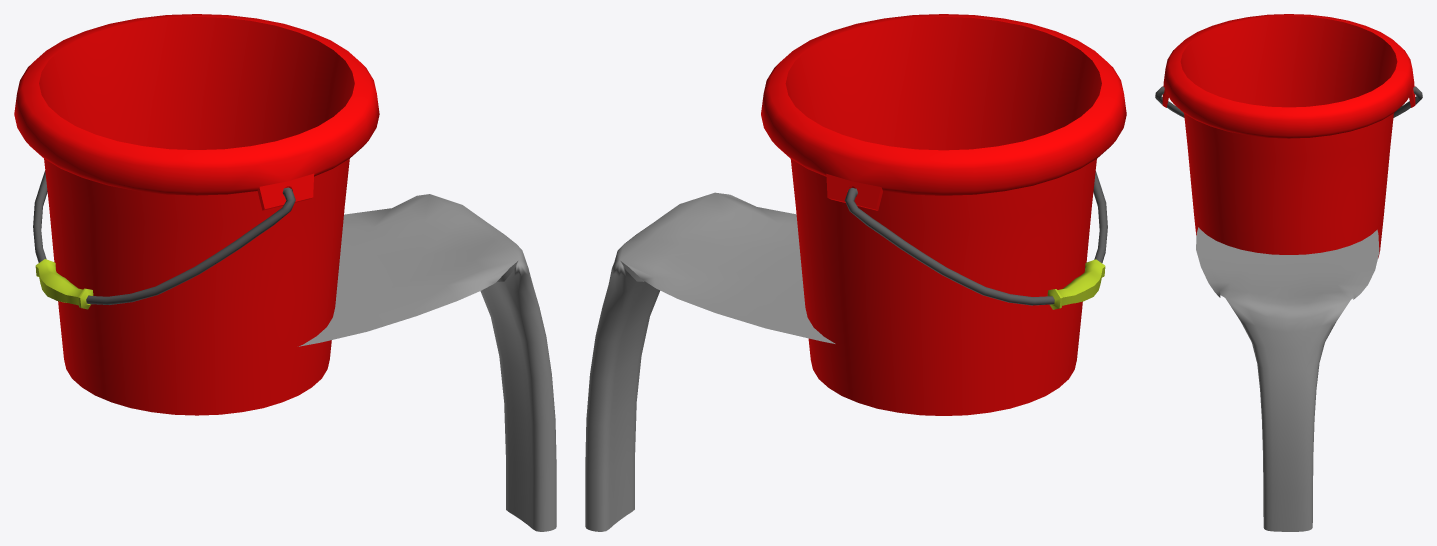
3 views of the same model, side by side, from view 1: azimuth 30°, elevation 25°; view 2: azimuth 150°, elevation 25°; view 3: azimuth 270°, elevation 25° (orthographic). The views are drawn at different scales.
Parts seen in each view (by area): view 1: ST_T, ST_S; view 2: ST_T, ST_S; view 3: ST_T, ST_S.
Boxes of the visible parts, bbox=[...] form: ST_T: bbox=[14, 14, 379, 415]; ST_S: bbox=[299, 194, 556, 531]; ST_T: bbox=[761, 14, 1126, 415]; ST_S: bbox=[585, 192, 835, 531]; ST_T: bbox=[1155, 14, 1422, 258]; ST_S: bbox=[1196, 227, 1379, 531].
Size of the model in its own units: 22.63 by 22.06 by 15.13.
